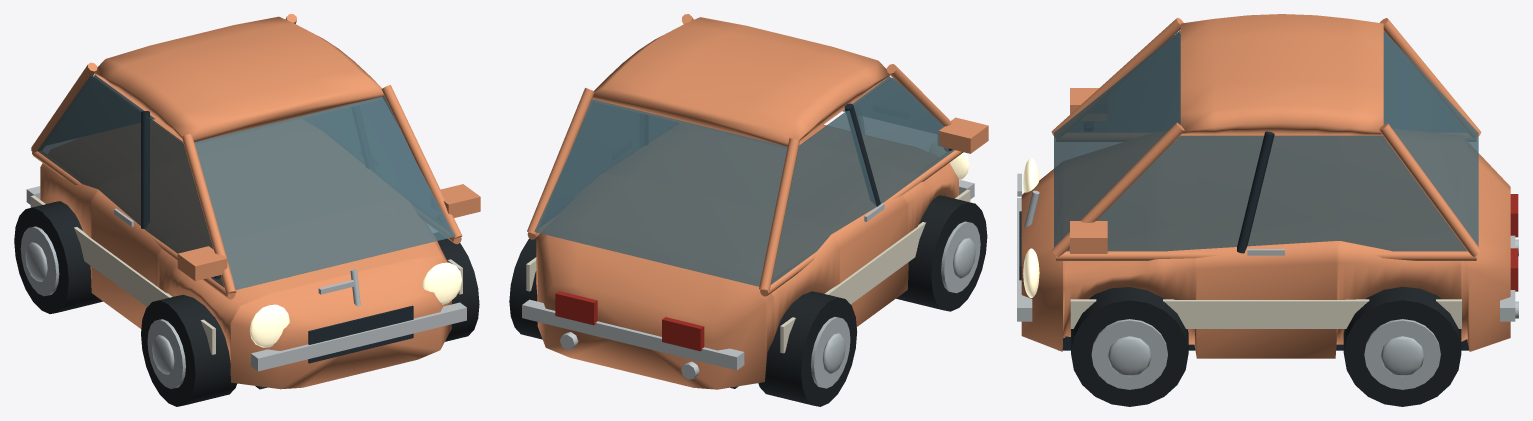
File: bubble.glb
3 views of the same model, side by side, from view 1: azimuth 30°, elevation 25°; view 2: azimuth 150°, elevation 25°; view 3: azimuth 270°, elevation 25° (orthographic). The views are drawn at different scales.
Parts seen in each view (by area): view 1: exterior-paint, windows, tire-front-left, tire-rear-left, chrome, secondary-paint, black-trim, headlights, rim-front-left, rim-rear-left, tire-front-right; view 2: exterior-paint, windows, tire-rear-left, tire-front-left, chrome, secondary-paint, taillights, rim-front-left, rim-rear-left, tire-rear-right, black-trim; view 3: exterior-paint, windows, tire-rear-right, tire-front-right, secondary-paint, rim-front-right, rim-rear-right, chrome, black-trim, headlights, taillights.
Part boxes in pixels (box(x1,y1,x2,y2)): exterior-paint: box(31, 14, 480, 389); windows: box(37, 74, 455, 289); tire-front-left: box(141, 294, 237, 406); tire-rear-left: box(14, 201, 102, 313); chrome: box(26, 186, 466, 371); secondary-paint: box(30, 195, 462, 354); black-trim: box(141, 110, 413, 389); headlights: box(249, 262, 461, 347); rim-front-left: box(147, 319, 185, 388); rim-rear-left: box(20, 226, 59, 296); tire-front-right: box(437, 238, 479, 341); exterior-paint: box(527, 14, 988, 389); windows: box(534, 76, 954, 286); tire-rear-left: box(758, 291, 857, 406); tire-front-left: box(896, 195, 987, 311); chrome: box(522, 116, 974, 379); secondary-paint: box(526, 189, 970, 353); taillights: box(555, 291, 704, 351); rim-front-left: box(941, 221, 980, 293); rim-rear-left: box(811, 317, 850, 388); tire-rear-right: box(509, 237, 542, 339); black-trim: box(645, 103, 952, 388); exterior-paint: box(1021, 14, 1510, 358); windows: box(1054, 30, 1478, 251); tire-rear-right: box(1343, 286, 1461, 406); tire-front-right: box(1071, 287, 1188, 406); secondary-paint: box(1070, 299, 1461, 328); rim-front-right: box(1091, 319, 1167, 389); rim-rear-right: box(1364, 319, 1440, 389); chrome: box(1017, 173, 1518, 321); black-trim: box(1019, 131, 1469, 350); headlights: box(1023, 158, 1039, 297); taillights: box(1510, 194, 1518, 291).
Size of the model in its own units: 1.6 by 1.29 by 2.13.
